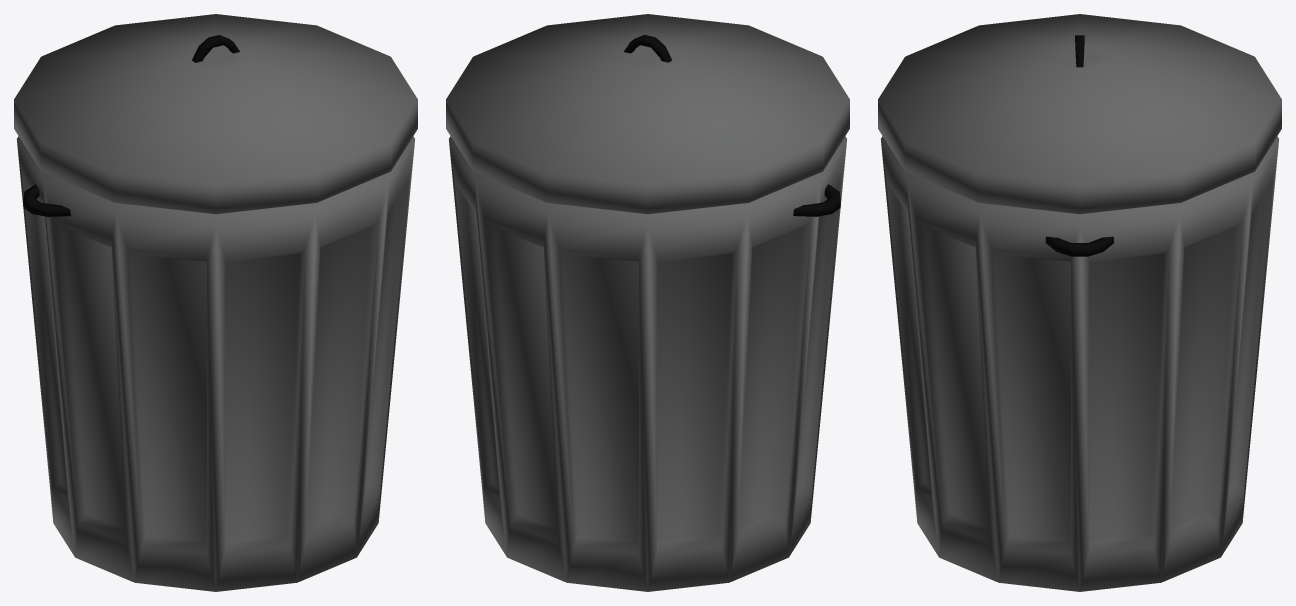
The model's file is TrashCan.fbx.
3 renders of one model, left to right at view 1: azimuth 30°, elevation 25°; view 2: azimuth 150°, elevation 25°; view 3: azimuth 270°, elevation 25°, orthographic.
Visible parts, largest first — view 1: TrashCan; view 2: TrashCan; view 3: TrashCan.
Part boxes in pixels (x1,y1,x2,y2): TrashCan: (14,14,417,591); TrashCan: (446,14,849,591); TrashCan: (878,14,1281,591).
Size of the model in its own units: 57.39 by 70.73 by 53.36.
1 material, 1 textured.
